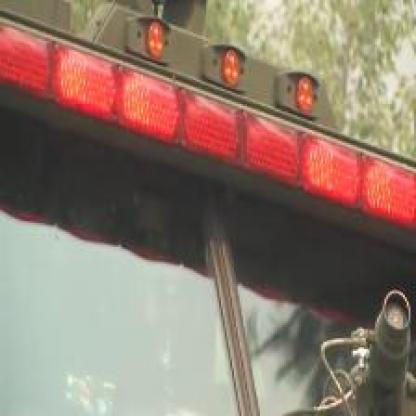other: (8, 26, 412, 225)
